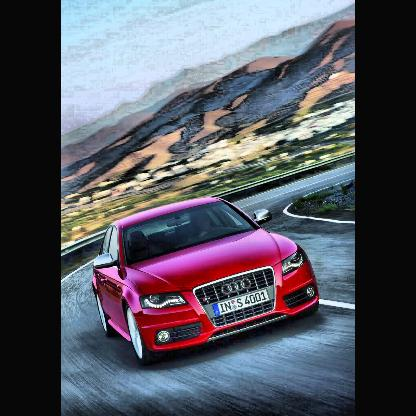Audi S4 Sedan 2012: (88, 197, 320, 367)
